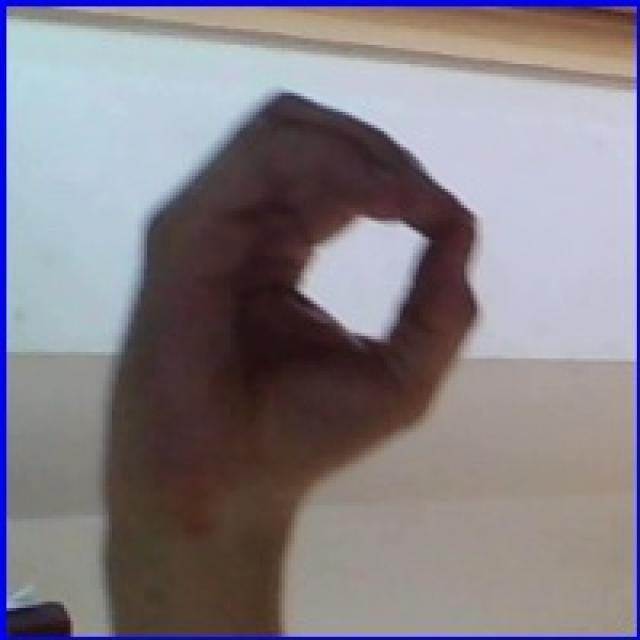O: (65, 85, 511, 633)
